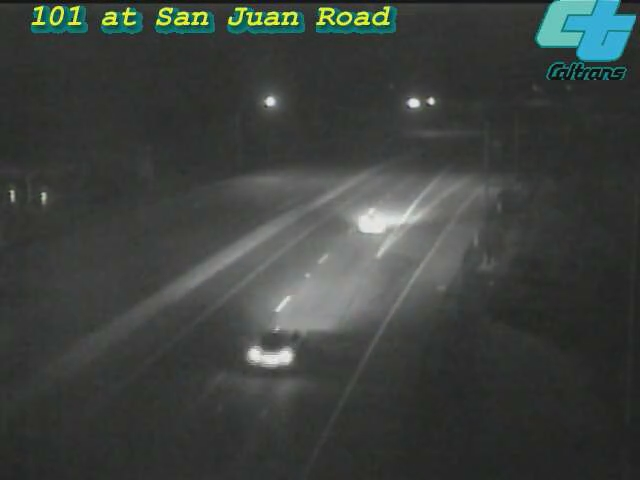vehicle: (217, 297, 327, 407), (334, 184, 414, 264)
